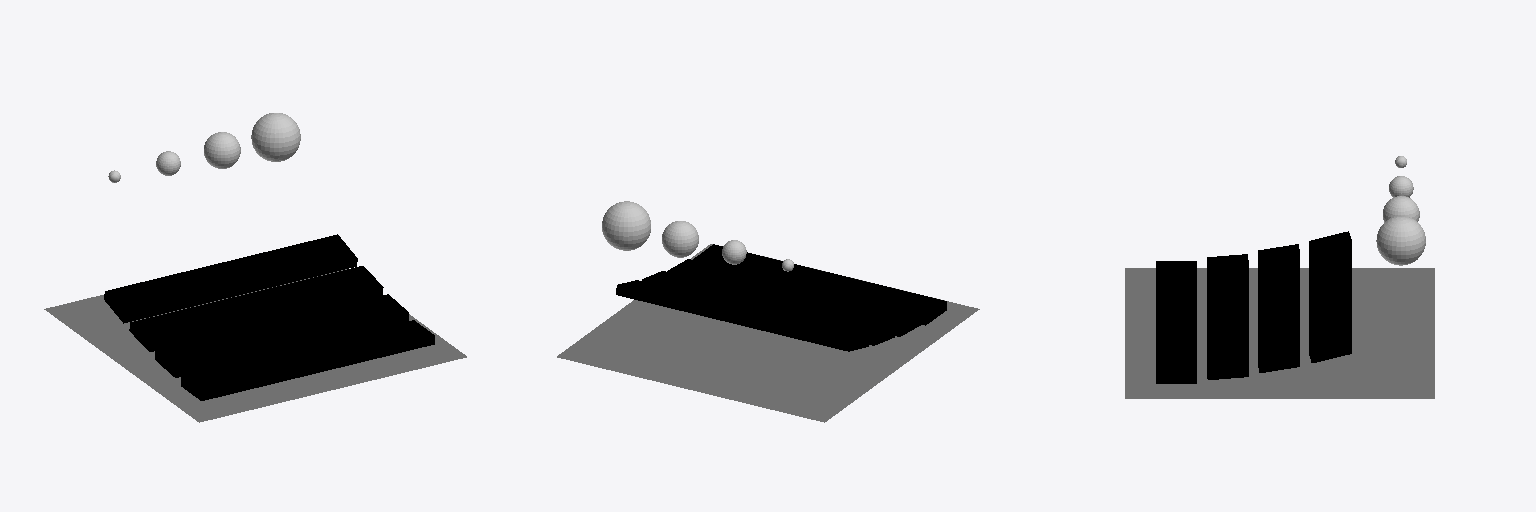
Rendered from importance-sampling.obj.
3 renders of one model, left to right at view 1: azimuth 30°, elevation 25°; view 2: azimuth 150°, elevation 25°; view 3: azimuth 270°, elevation 25°, orthographic.
Visible parts, largest first — view 1: Plane001, Box004, Box003, Box002, Box001, Sphere004, Sphere003; view 2: Plane001, Box004, Box001, Box002, Box003, Sphere004, Sphere003; view 3: Plane001, Box004, Box003, Box002, Box001, Sphere004, Sphere003.
Boxes of the visible parts, box(x1,y1,x2,y2) form: Plane001: box(44, 269, 466, 422); Box004: box(104, 234, 357, 323); Box003: box(129, 266, 383, 351); Box002: box(155, 294, 408, 377); Box001: box(181, 320, 434, 400); Sphere004: box(251, 113, 300, 161); Sphere003: box(204, 132, 240, 168); Plane001: box(557, 244, 979, 422); Box004: box(616, 280, 869, 351); Box001: box(693, 244, 946, 325); Box002: box(667, 259, 920, 336); Box003: box(642, 271, 895, 345); Sphere004: box(602, 201, 650, 250); Sphere003: box(662, 221, 698, 257); Plane001: box(1125, 268, 1434, 398); Box004: box(1309, 231, 1351, 362); Box003: box(1258, 244, 1299, 372); Box002: box(1207, 254, 1248, 379); Box001: box(1156, 261, 1196, 383); Sphere004: box(1376, 216, 1425, 265); Sphere003: box(1383, 196, 1419, 222).
Bounding box in the file's own units: 150 × 82.21 × 150.